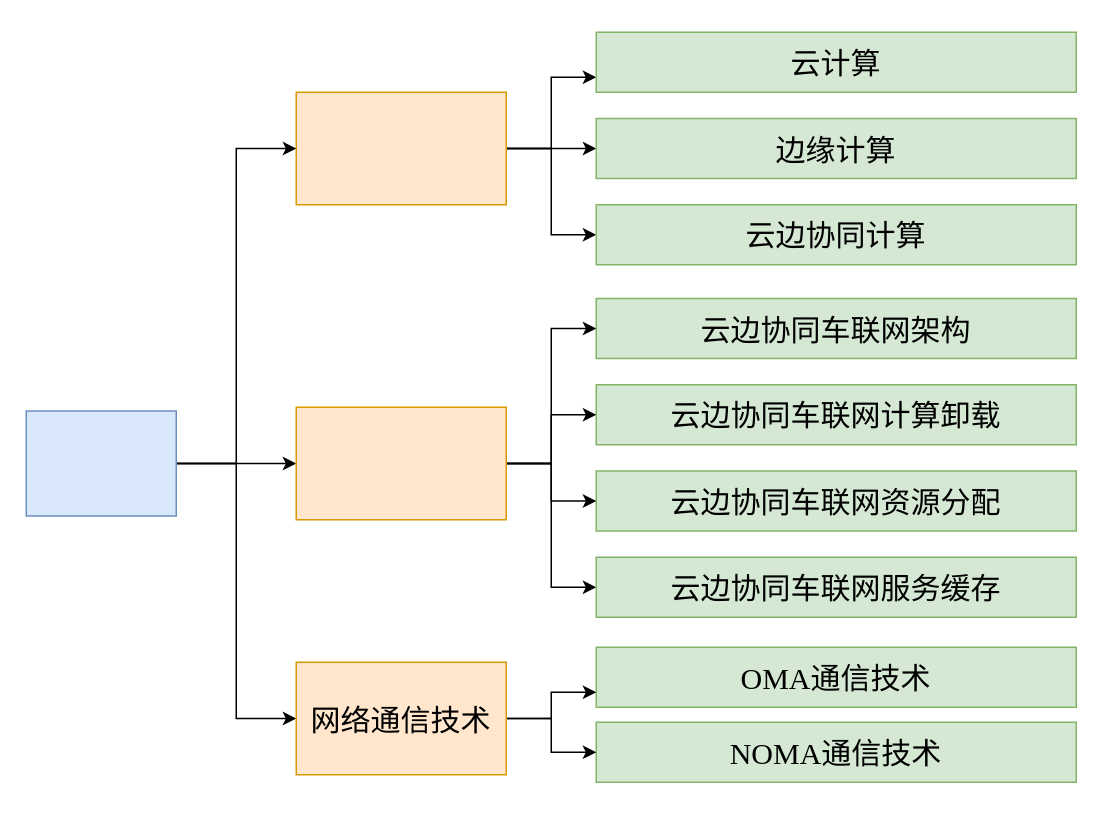
This 1103x813 diagram has some shape labels left out. Here are the shapes that lost their labels. From the top down, the centre of each, then its label:
the point at 400,148: 云边协同技术
the point at 100,463: 相关技术
the point at 400,463: 车联网技术
